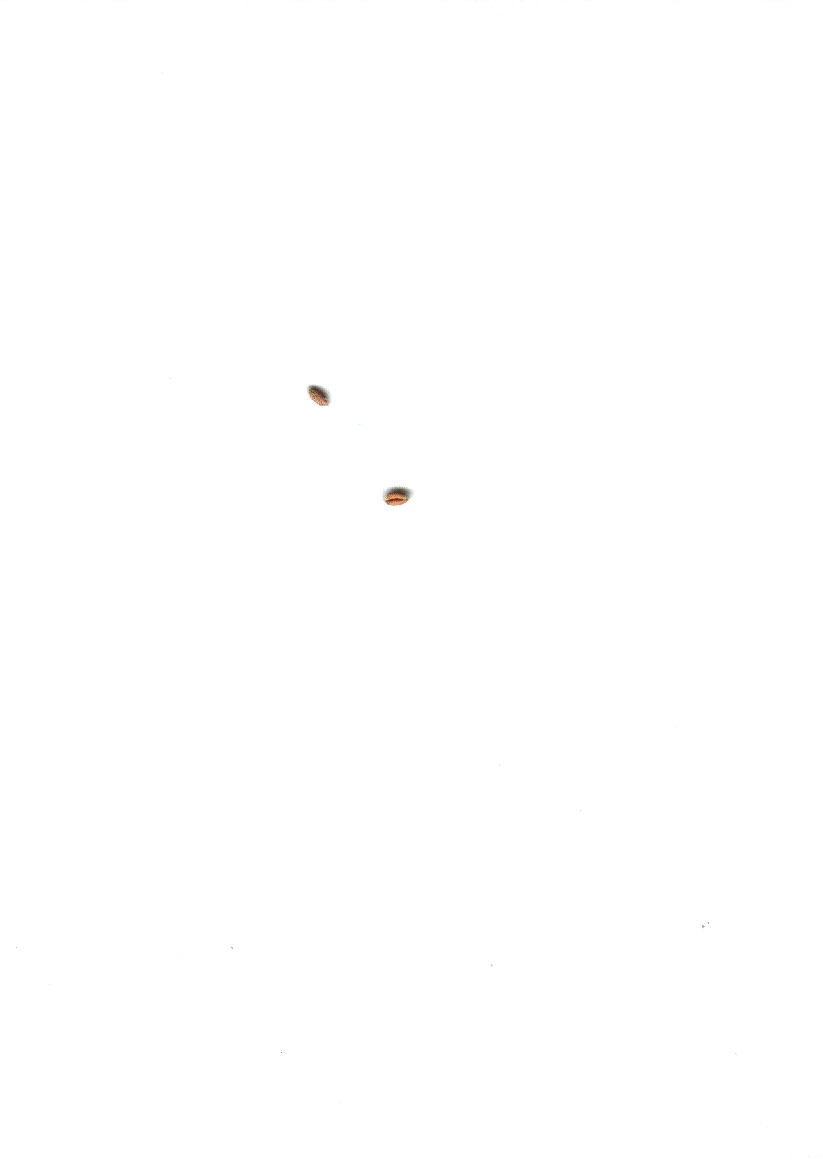grains: (371, 472, 423, 527), (296, 375, 338, 416)
